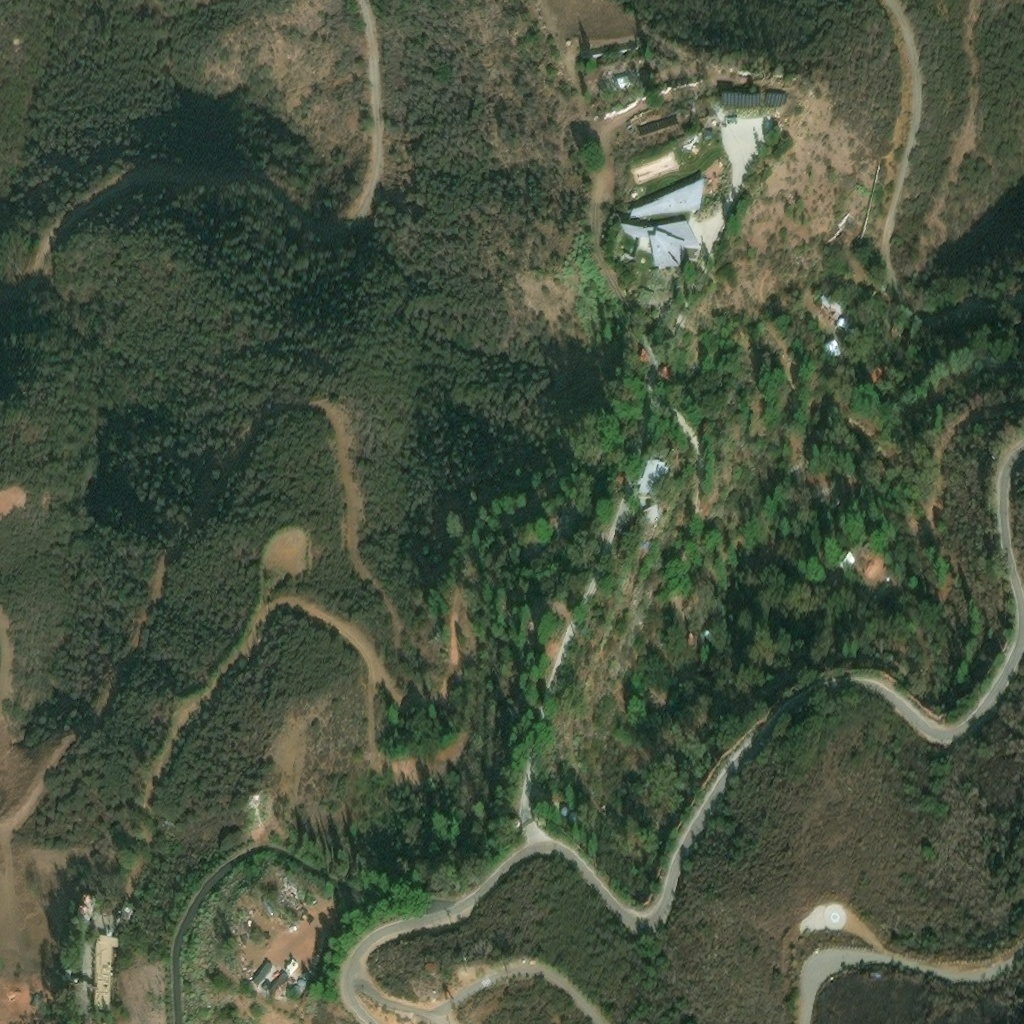0 no-damage: (620, 223, 705, 273), (628, 179, 704, 220), (93, 936, 118, 1012), (636, 465, 667, 499), (637, 114, 678, 137), (73, 894, 95, 927), (817, 298, 844, 324), (591, 46, 637, 61), (250, 963, 273, 989), (265, 972, 288, 997), (720, 94, 760, 108), (822, 339, 843, 363), (407, 764, 430, 785), (868, 361, 887, 384), (639, 509, 659, 529), (839, 553, 856, 571), (120, 902, 134, 923), (765, 96, 785, 110), (634, 290, 652, 305), (614, 76, 630, 91), (836, 320, 851, 335), (657, 370, 668, 383), (249, 796, 259, 808), (424, 966, 434, 978), (558, 811, 568, 822), (638, 353, 648, 364), (703, 629, 710, 638), (569, 818, 576, 826), (710, 121, 716, 127)
